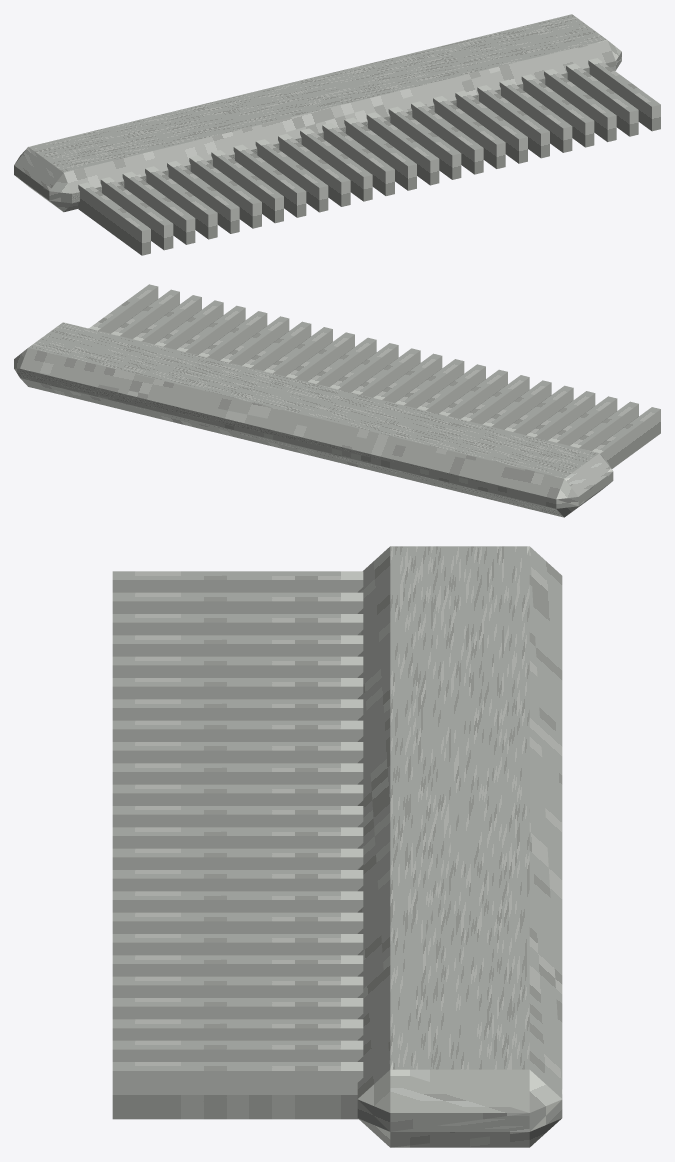
Rendered from comb_lice.glb.
3 views of the same model, one above another, from view 1: azimuth 30°, elevation 25°; view 2: azimuth 150°, elevation 25°; view 3: azimuth 270°, elevation 25° (orthographic). The views are drawn at different scales.
Parts seen in each view (by area): view 1: block_fine tooth (×24), block_steel comb spine; view 2: block_steel comb spine, block_fine tooth (×24); view 3: block_fine tooth (×24), block_steel comb spine.
Boxes of the visible parts, x1,y1,x2,y2 form: block_fine tooth (×24): [78, 58, 660, 255]; block_steel comb spine: [14, 14, 621, 212]; block_steel comb spine: [14, 322, 613, 517]; block_fine tooth (×24): [89, 284, 660, 468]; block_fine tooth (×24): [112, 571, 363, 1119]; block_steel comb spine: [357, 546, 562, 1147].
Bounding box in the file's own units: 0.1 × 0.00661 × 0.0345.
Materials: 1 (1 with a texture image).
